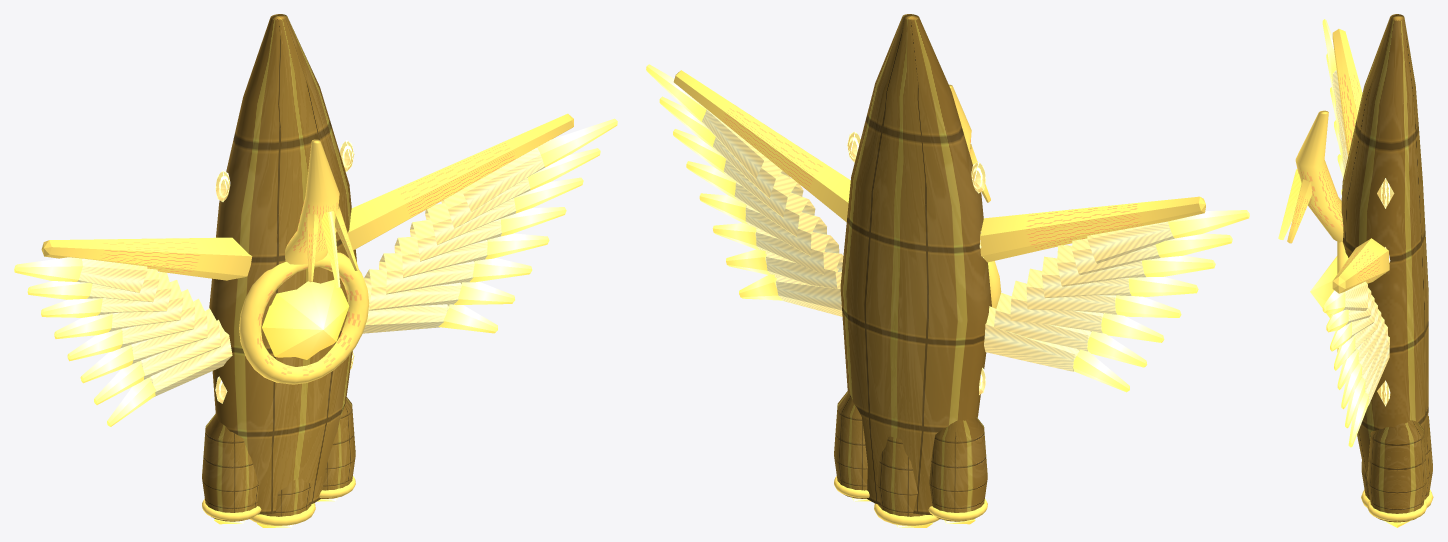
The model's file is ship_s2_gold_phoenix.glb.
The picture shows the model from 3 angles, left to right: view 1: azimuth 30°, elevation 25°; view 2: azimuth 150°, elevation 25°; view 3: azimuth 270°, elevation 25°; orthographic projection. The views are drawn at different scales.
Parts seen in each view (by area): view 1: ship_s2_gold_phoenix; view 2: ship_s2_gold_phoenix; view 3: ship_s2_gold_phoenix.
Boxes of the visible parts, bbox=[...] form: ship_s2_gold_phoenix: bbox=[14, 14, 617, 527]; ship_s2_gold_phoenix: bbox=[646, 14, 1249, 527]; ship_s2_gold_phoenix: bbox=[1278, 14, 1433, 527].
Bounding box in the file's own units: 4.69 × 3.78 × 1.07.
4 materials, 4 textured.
